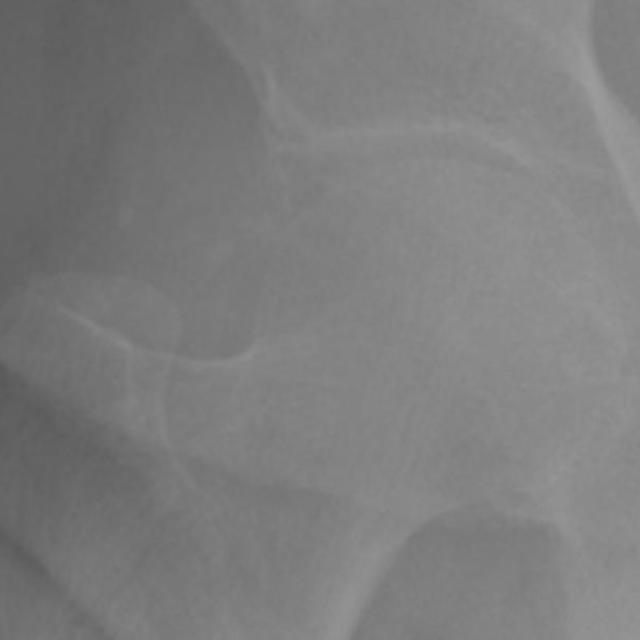Fitted_femural_head: (369, 158, 432, 369)
